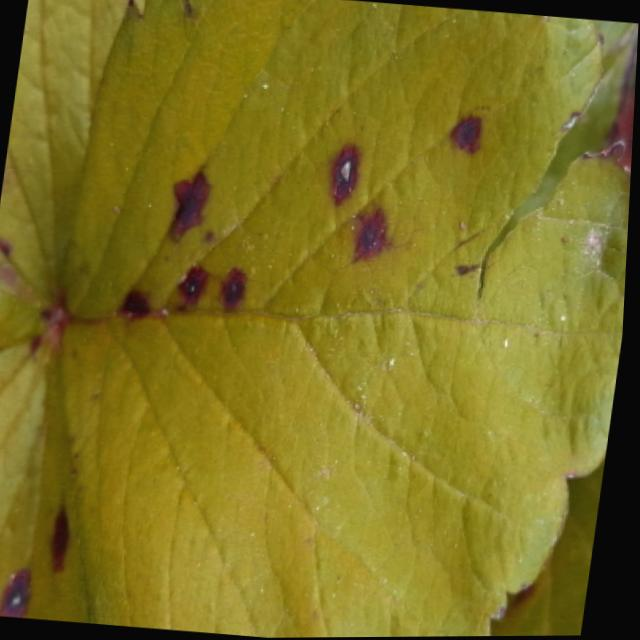Leaf Spot: (61, 0, 633, 638), (0, 318, 92, 623)
